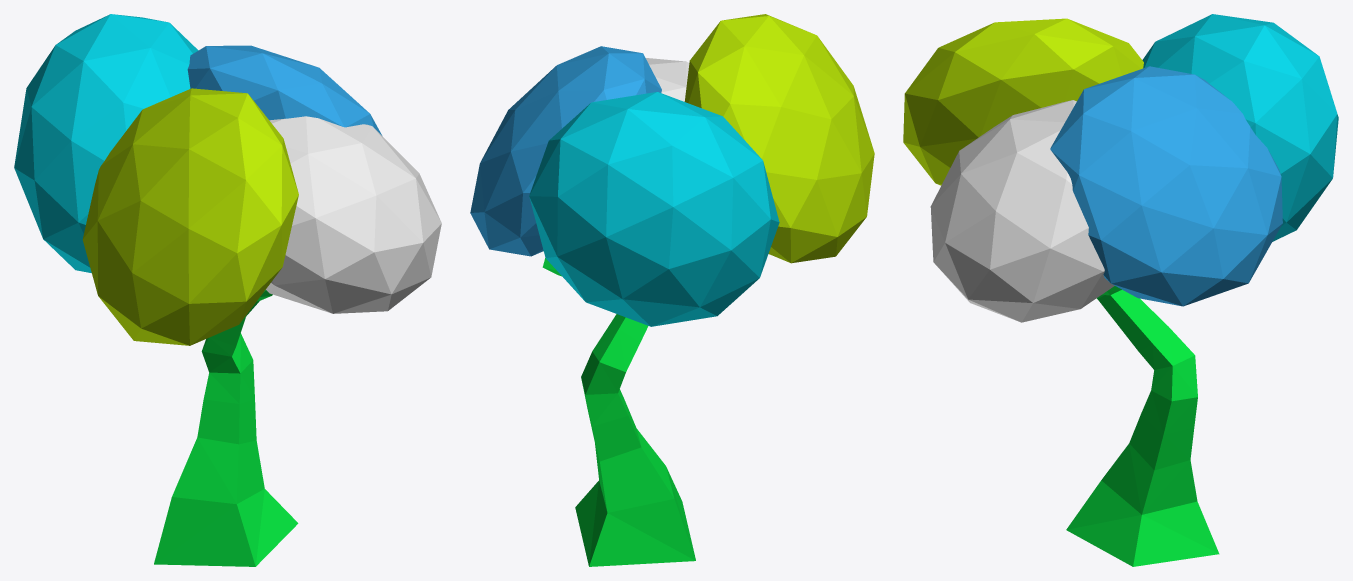
Rendered from tree4.fbx.
3 views of the same model, side by side, from view 1: azimuth 30°, elevation 25°; view 2: azimuth 150°, elevation 25°; view 3: azimuth 270°, elevation 25° (orthographic). The views are drawn at different scales.
Parts seen in each view (by area): view 1: tree4; view 2: tree4; view 3: tree4.
Part boxes in pixels (x1,y1,x2,y2): tree4: (14,14,441,566); tree4: (470,14,874,566); tree4: (903,14,1338,566).
Bounding box in the file's own units: 461 × 701 × 554.
